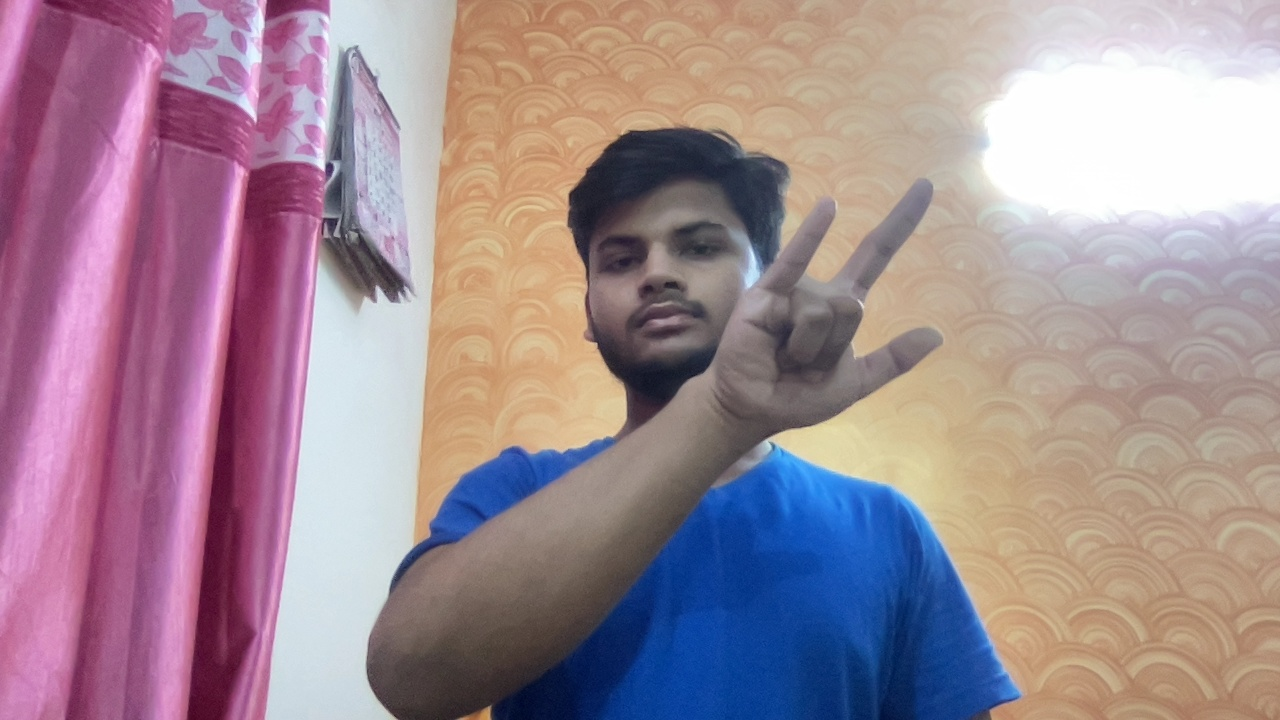iloveyou: (719, 165, 972, 504)
